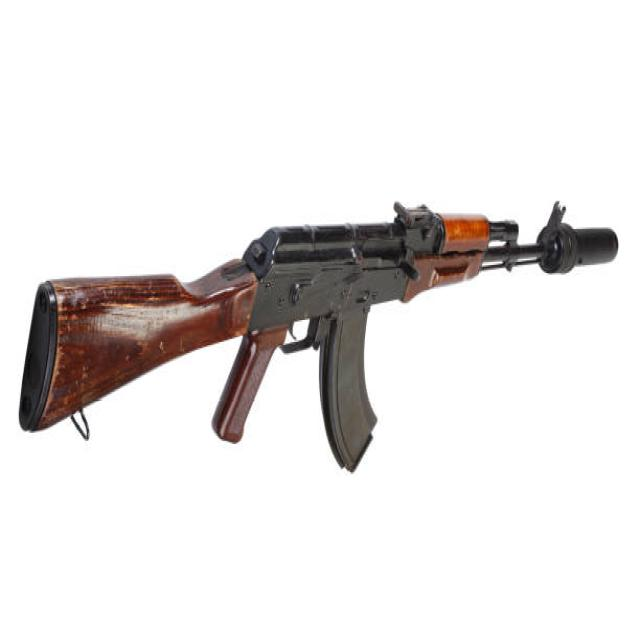rifle: (21, 192, 620, 478)
